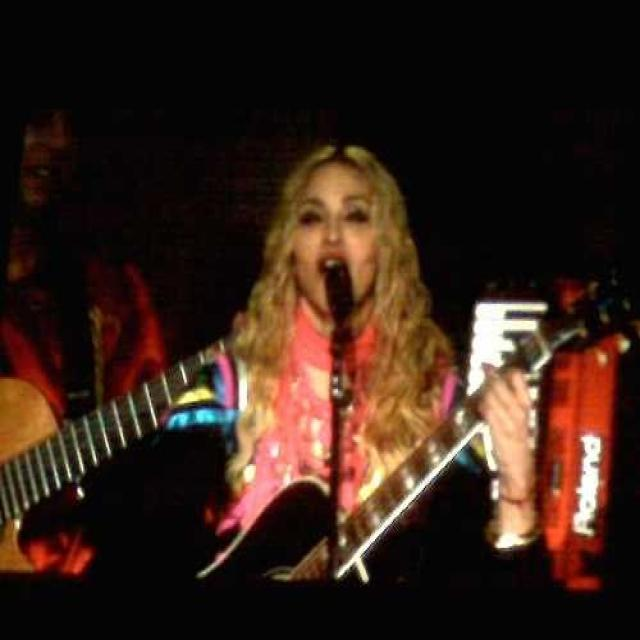microphone: (321, 258, 363, 336)
